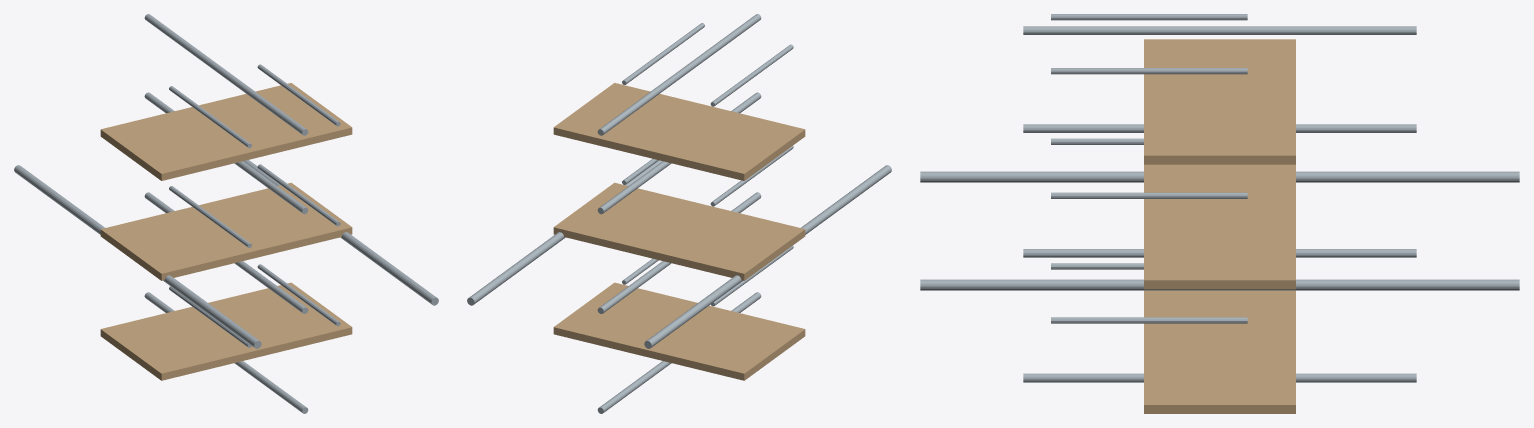
The model's file is scaffold_lod1.glb.
The picture shows the model from 3 angles, left to right: view 1: azimuth 30°, elevation 25°; view 2: azimuth 150°, elevation 25°; view 3: azimuth 270°, elevation 25°; orthographic projection. The views are drawn at different scales.
Visible parts, largest first — view 1: part_13, part_14, part_12, part_1, part_3, part_0, part_10, part_11, part_7, part_9, part_5, part_16 (+5 smaller); view 2: part_13, part_14, part_12, part_0, part_2, part_1, part_10, part_11, part_8, part_4, part_6, part_19 (+2 smaller); view 3: part_13, part_14, part_12, part_2, part_0, part_3, part_1, part_10, part_11, part_16, part_18, part_19 (+9 smaller).
Boxes of the visible parts, <box> form: part_13: <box>100,182,352,280</box>; part_14: <box>100,83,352,180</box>; part_12: <box>100,282,352,380</box>; part_1: <box>69,205,261,348</box>; part_3: <box>248,162,438,305</box>; part_0: <box>14,165,203,306</box>; part_10: <box>144,14,251,94</box>; part_11: <box>200,54,308,135</box>; part_7: <box>235,261,308,313</box>; part_9: <box>235,161,308,214</box>; part_5: <box>235,361,308,413</box>; part_16: <box>257,264,340,326</box>; part_13: <box>553,182,805,280</box>; part_14: <box>553,83,805,180</box>; part_12: <box>553,282,805,380</box>; part_0: <box>644,205,836,348</box>; part_2: <box>467,162,658,305</box>; part_1: <box>702,165,891,306</box>; part_10: <box>597,54,705,135</box>; part_11: <box>655,14,761,91</box>; part_8: <box>597,161,671,214</box>; part_4: <box>597,361,671,413</box>; part_6: <box>597,261,670,313</box>; part_19: <box>710,44,793,106</box>; part_13: <box>1144,164,1295,289</box>; part_14: <box>1144,39,1295,164</box>; part_12: <box>1144,290,1295,413</box>; part_2: <box>1058,279,1519,290</box>; part_0: <box>1058,171,1519,182</box>; part_3: <box>920,279,1381,290</box>; part_1: <box>920,171,1381,182</box>; part_10: <box>1161,26,1416,34</box>; part_11: <box>1023,26,1278,34</box>; part_16: <box>1051,317,1247,323</box>; part_18: <box>1051,192,1247,198</box>; part_19: <box>1051,14,1247,20</box>.
Size of the model in its own units: 2.8 by 3.99 by 6.1.
